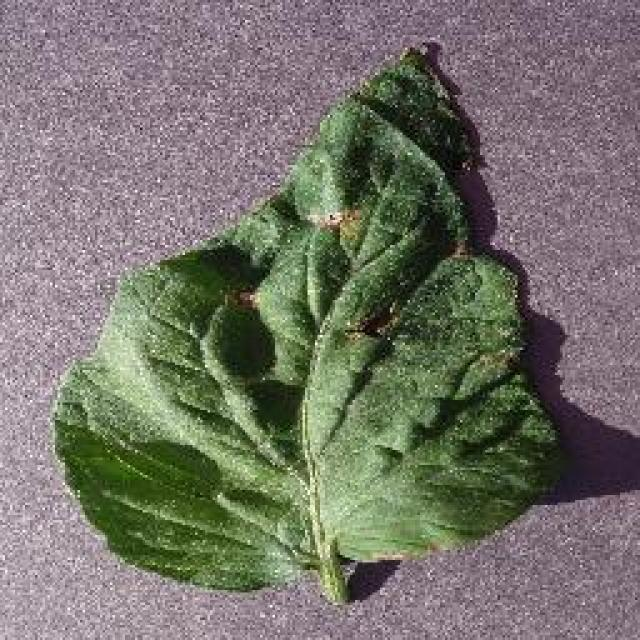Tomato Septoria spot leaf: (51, 45, 564, 593)
